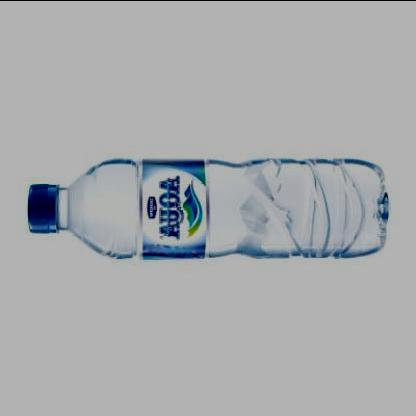bottle: (12, 148, 395, 265)
